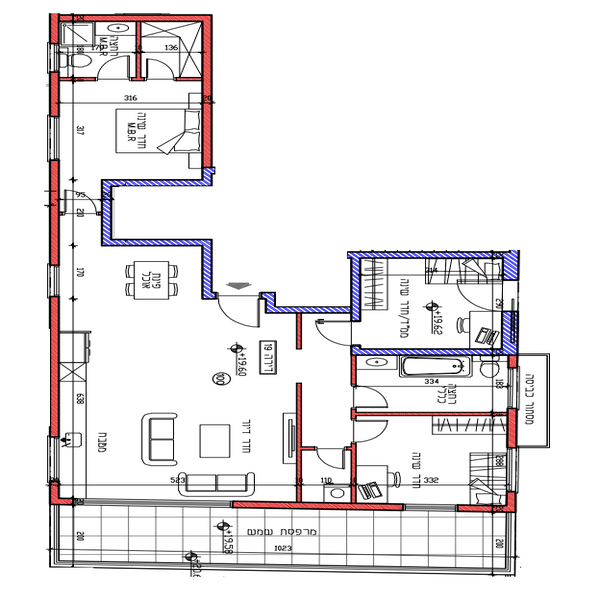door: (452, 278, 506, 314), (219, 291, 265, 330), (317, 315, 357, 349), (351, 411, 390, 445), (350, 384, 390, 411), (316, 445, 348, 474), (96, 57, 131, 82), (146, 57, 175, 83)
room: (49, 294, 304, 509), (47, 14, 215, 190), (349, 251, 520, 354), (352, 410, 518, 516)
wall: (200, 18, 213, 168), (233, 500, 403, 511), (50, 295, 61, 436), (357, 251, 518, 259), (351, 347, 507, 354), (107, 238, 212, 248), (49, 163, 59, 268), (57, 16, 211, 22), (270, 304, 357, 314), (348, 413, 509, 418), (503, 310, 519, 356), (105, 180, 207, 187), (461, 503, 515, 515), (103, 178, 112, 247), (48, 72, 62, 115), (203, 239, 213, 295), (352, 253, 362, 301), (504, 256, 521, 280)
window: (46, 114, 63, 158), (47, 437, 61, 478), (407, 504, 456, 514), (47, 43, 61, 73), (48, 267, 63, 294)
